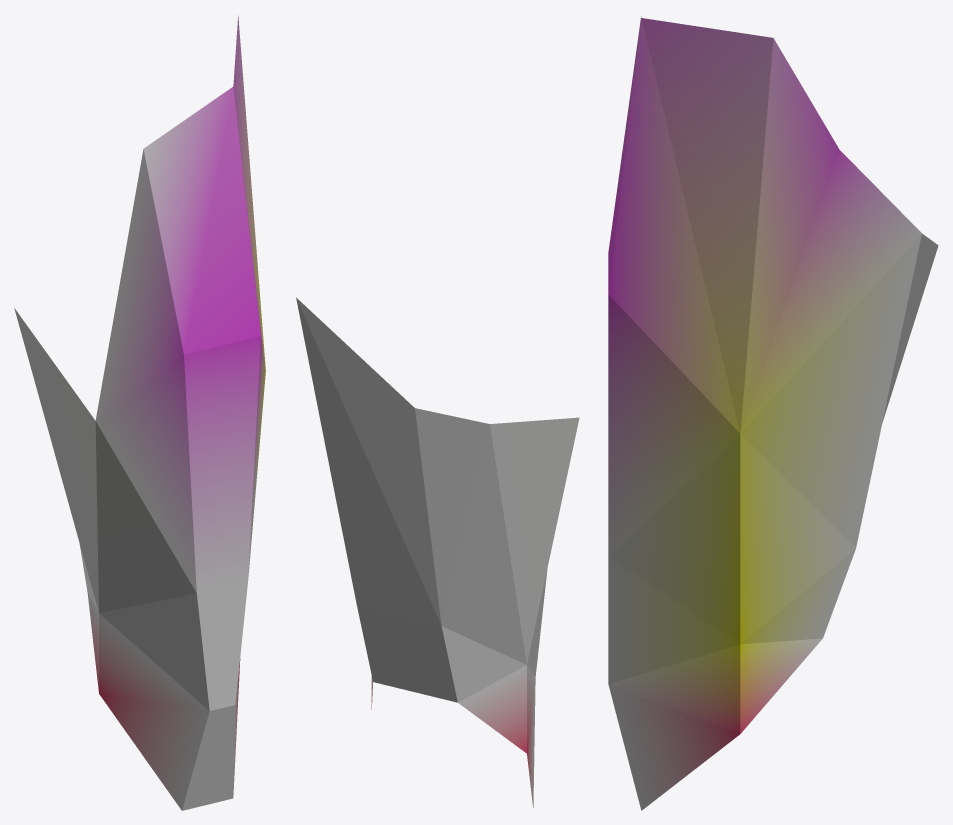
3 renders of one model, left to right at view 1: azimuth 30°, elevation 25°; view 2: azimuth 150°, elevation 25°; view 3: azimuth 270°, elevation 25°, orthographic. The views are drawn at different scales.
Visible parts, largest first — view 1: model_1177; view 2: model_1177; view 3: model_1177.
Boxes of the visible parts, left/top/right/bottom form: model_1177: left=14, top=15, right=265, bottom=810; model_1177: left=296, top=297, right=579, bottom=808; model_1177: left=608, top=16, right=938, bottom=810.
Size of the model in its own units: 15 by 54 by 20.
